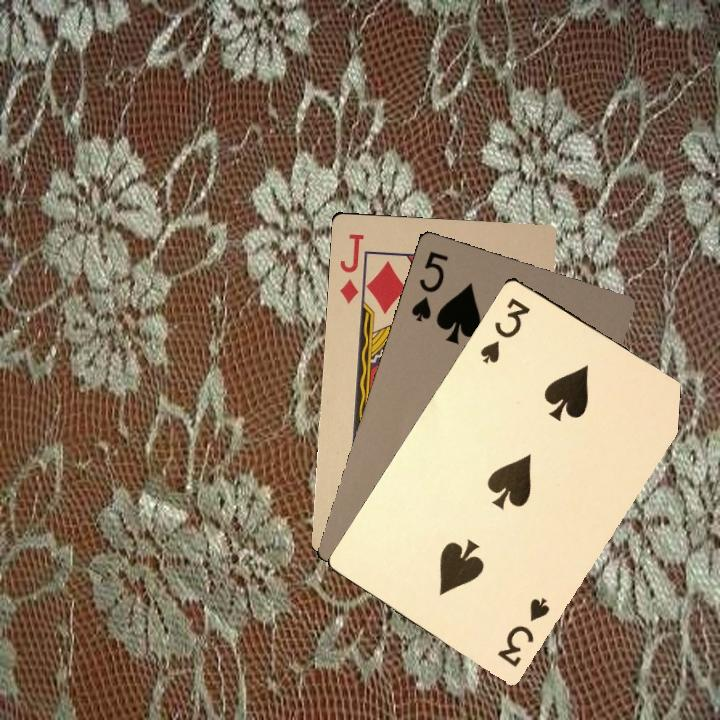3s: (493, 594, 553, 670), (476, 293, 533, 366)
5s: (407, 247, 451, 324)
Jd: (335, 228, 367, 305)
